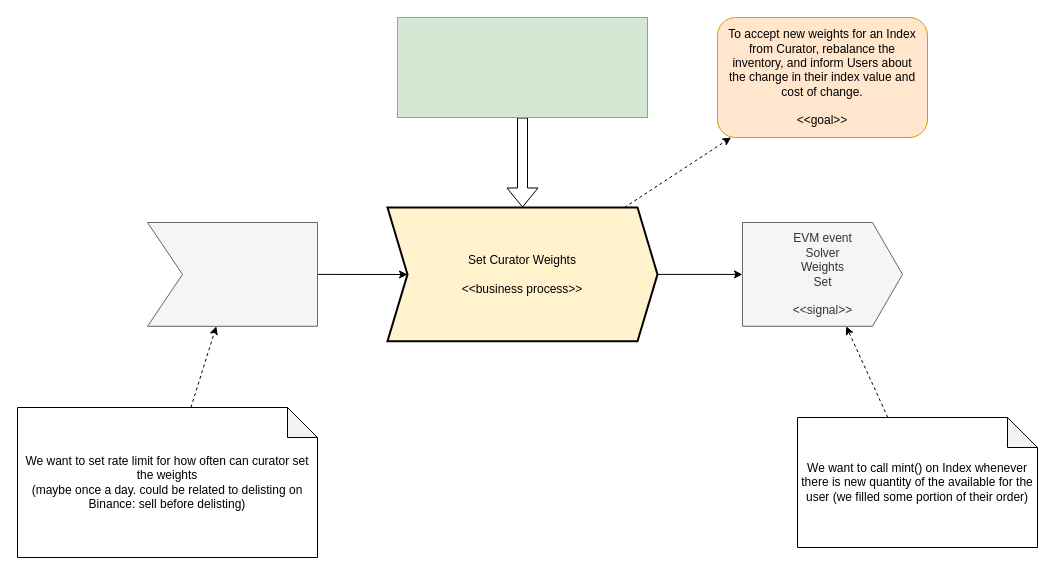
The diagram is 1055 pixels wide and 575 high, and some of its shapes have lost their labels. Each missing label, with the centre of its shape:
"Each index: timestamp weights" goes at [522,67].
"EVM event Curator Weigths Set <<trigger>>" goes at [232,274].
